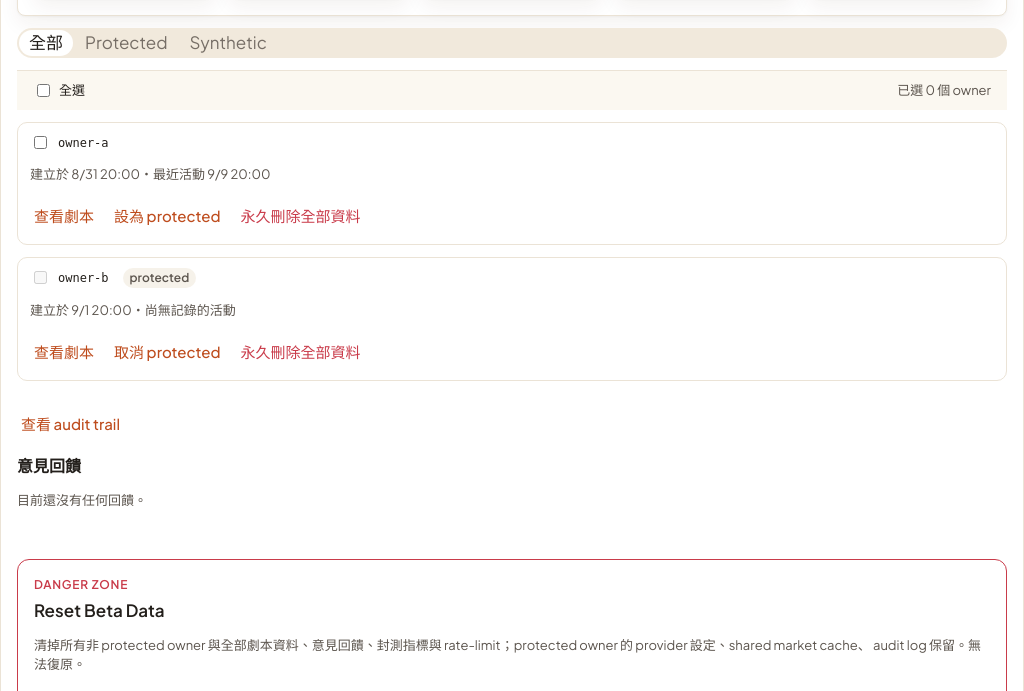
Test: SuperUserAdmin › an empty audit trail says so instead of showing nothing
(page scrolled)
Check: the text "owner-a" is shown, box [58,134,109,152]
Click the button "查看 audit trail" at (70, 423), box [17,405,124,442]
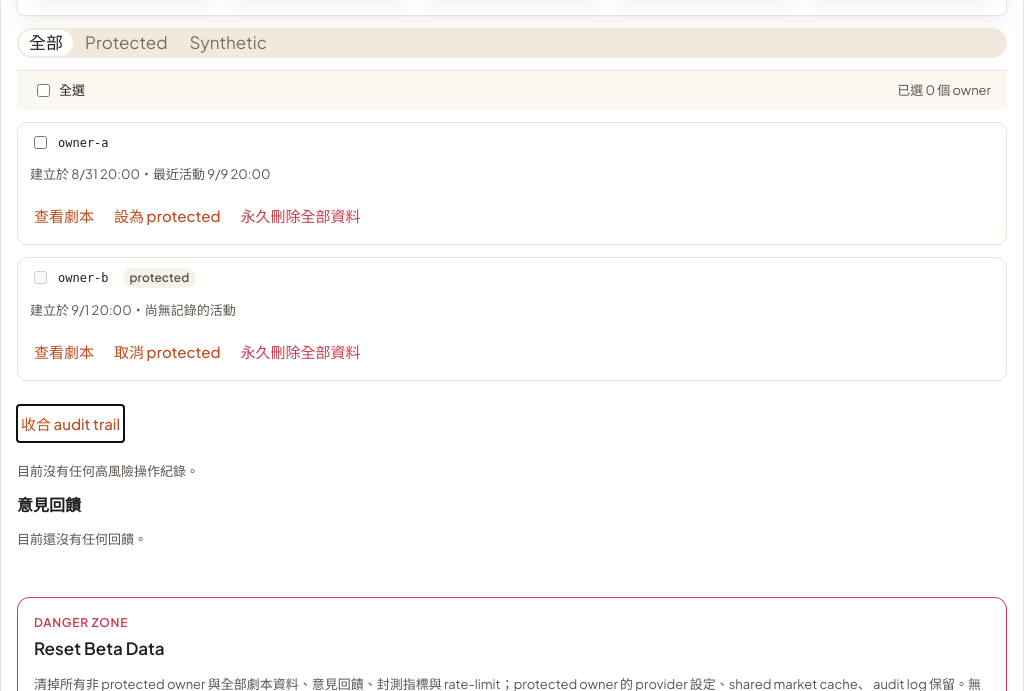
Check: the list item "目前沒有任何高風險操作紀錄。" is shown, box [17,463,199,479]
